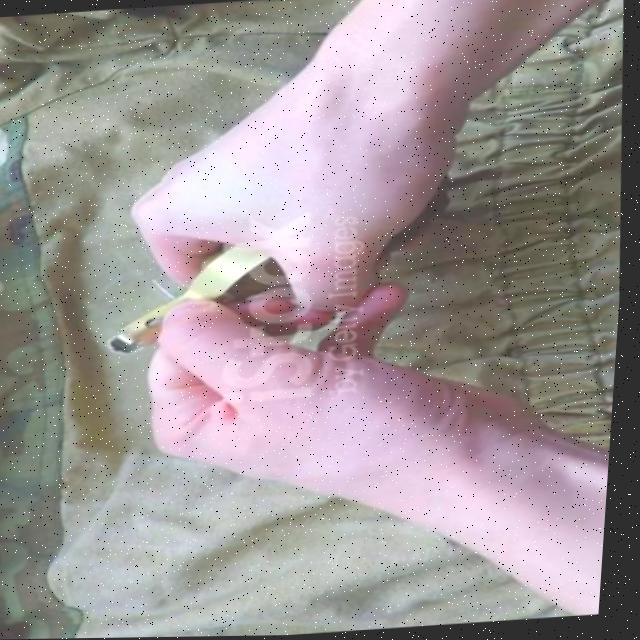grenade: (104, 193, 450, 354)
